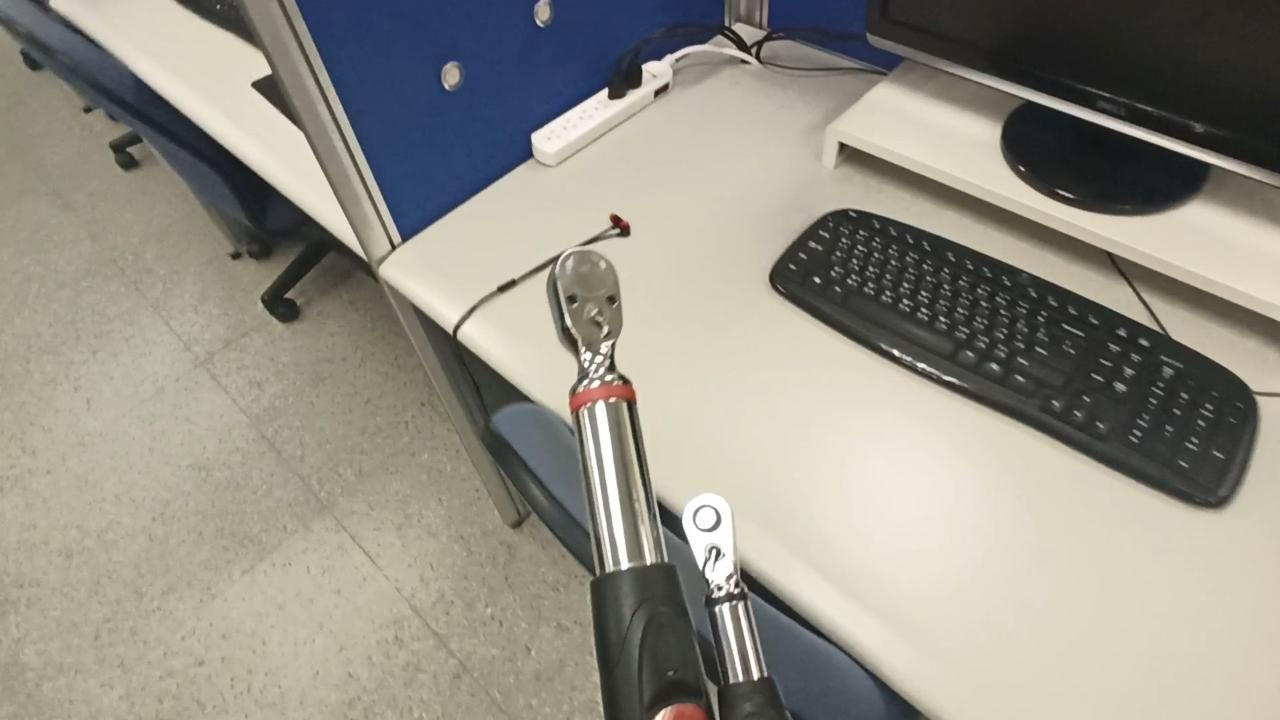Tool: (548, 239, 646, 404), (680, 487, 751, 589)
